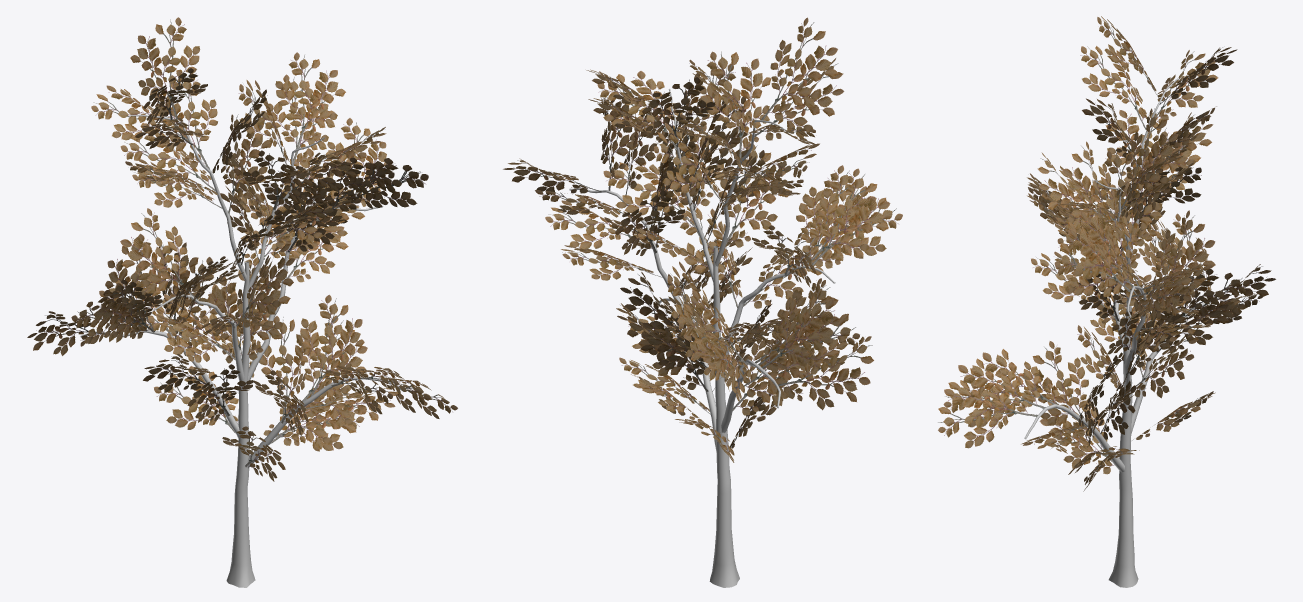
The model's file is tree2.fbx.
3 views of the same model, side by side, from view 1: azimuth 30°, elevation 25°; view 2: azimuth 150°, elevation 25°; view 3: azimuth 270°, elevation 25° (orthographic). The views are drawn at different scales.
Parts seen in each view (by area): view 1: tree2; view 2: tree2; view 3: tree2.
Part boxes in pixels (box(x1,y1,x2,y2)): tree2: box(27, 17, 457, 587); tree2: box(503, 17, 902, 587); tree2: box(938, 16, 1275, 587).
Size of the model in its own units: 864 by 1187 by 709.
